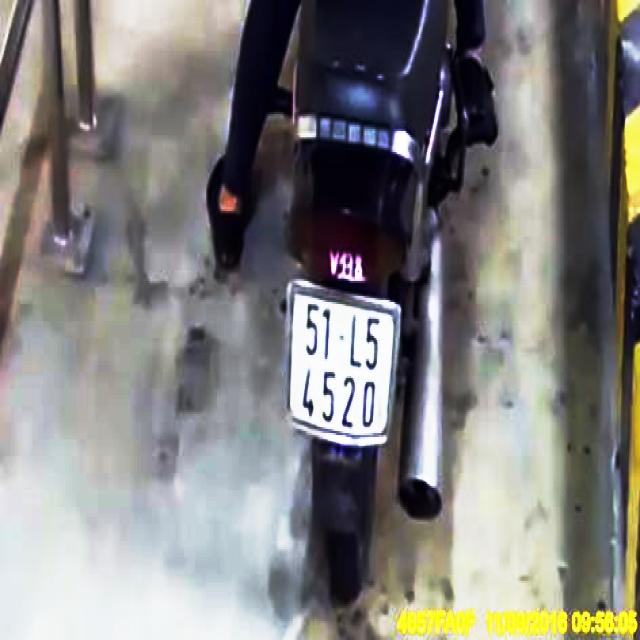license_plate: (288, 285, 403, 444)
